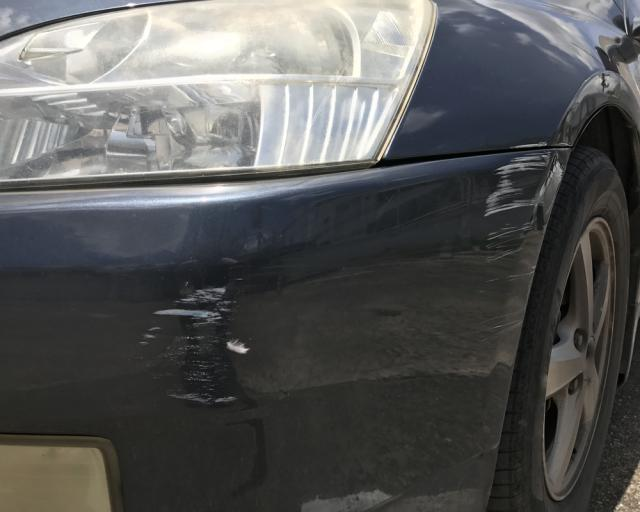scratch: (481, 155, 568, 338), (139, 286, 249, 412)
